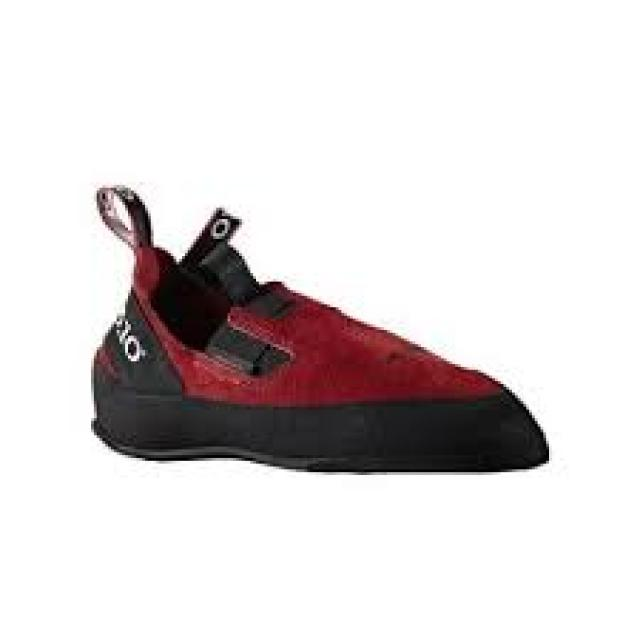climbing-shoes: (88, 181, 550, 474)
